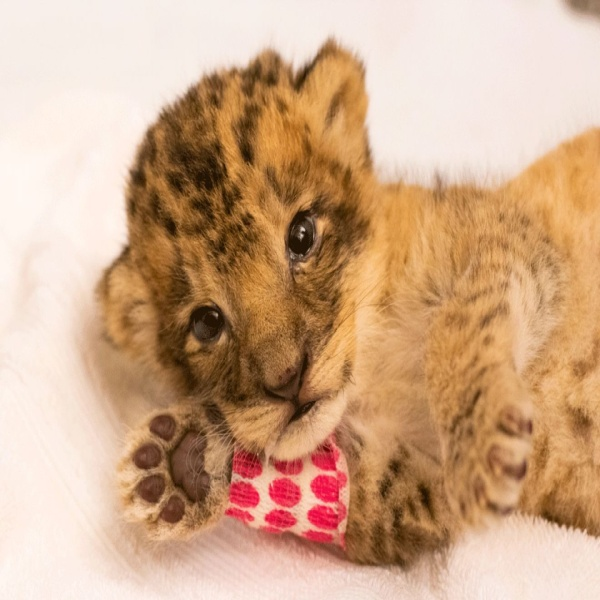Lion: (91, 25, 600, 574)
